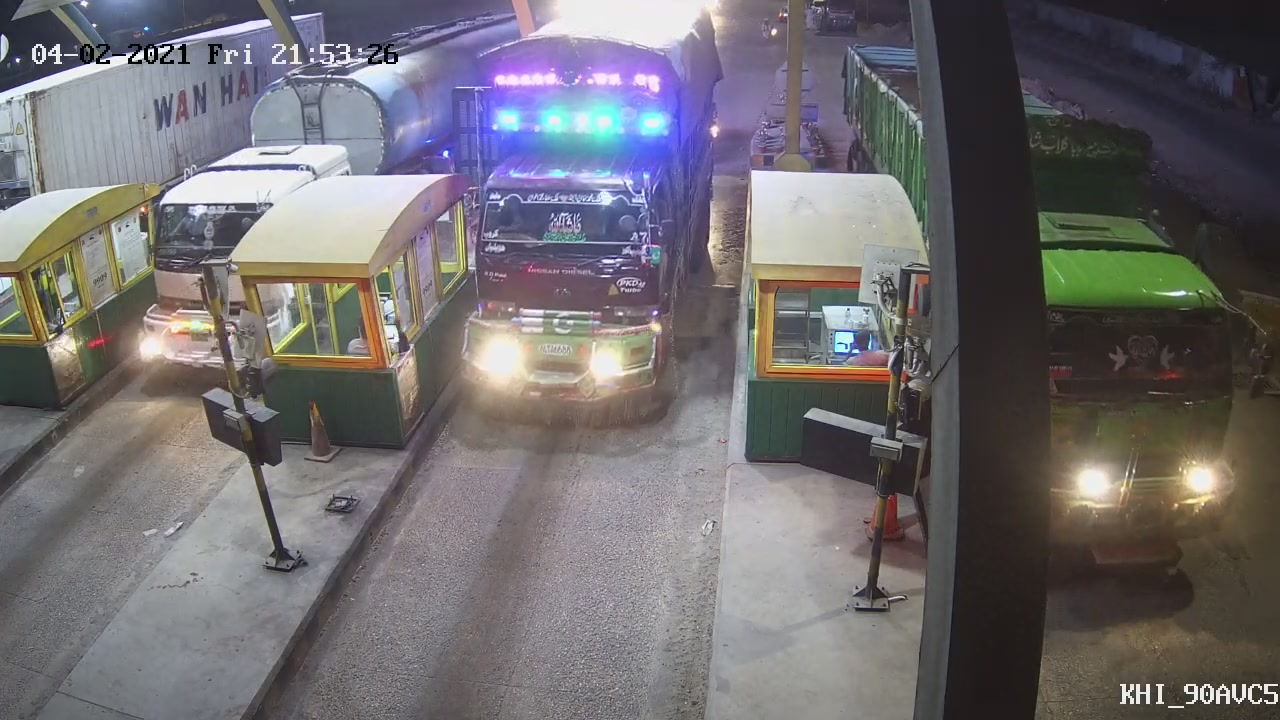F5: (450, 1, 734, 417)
